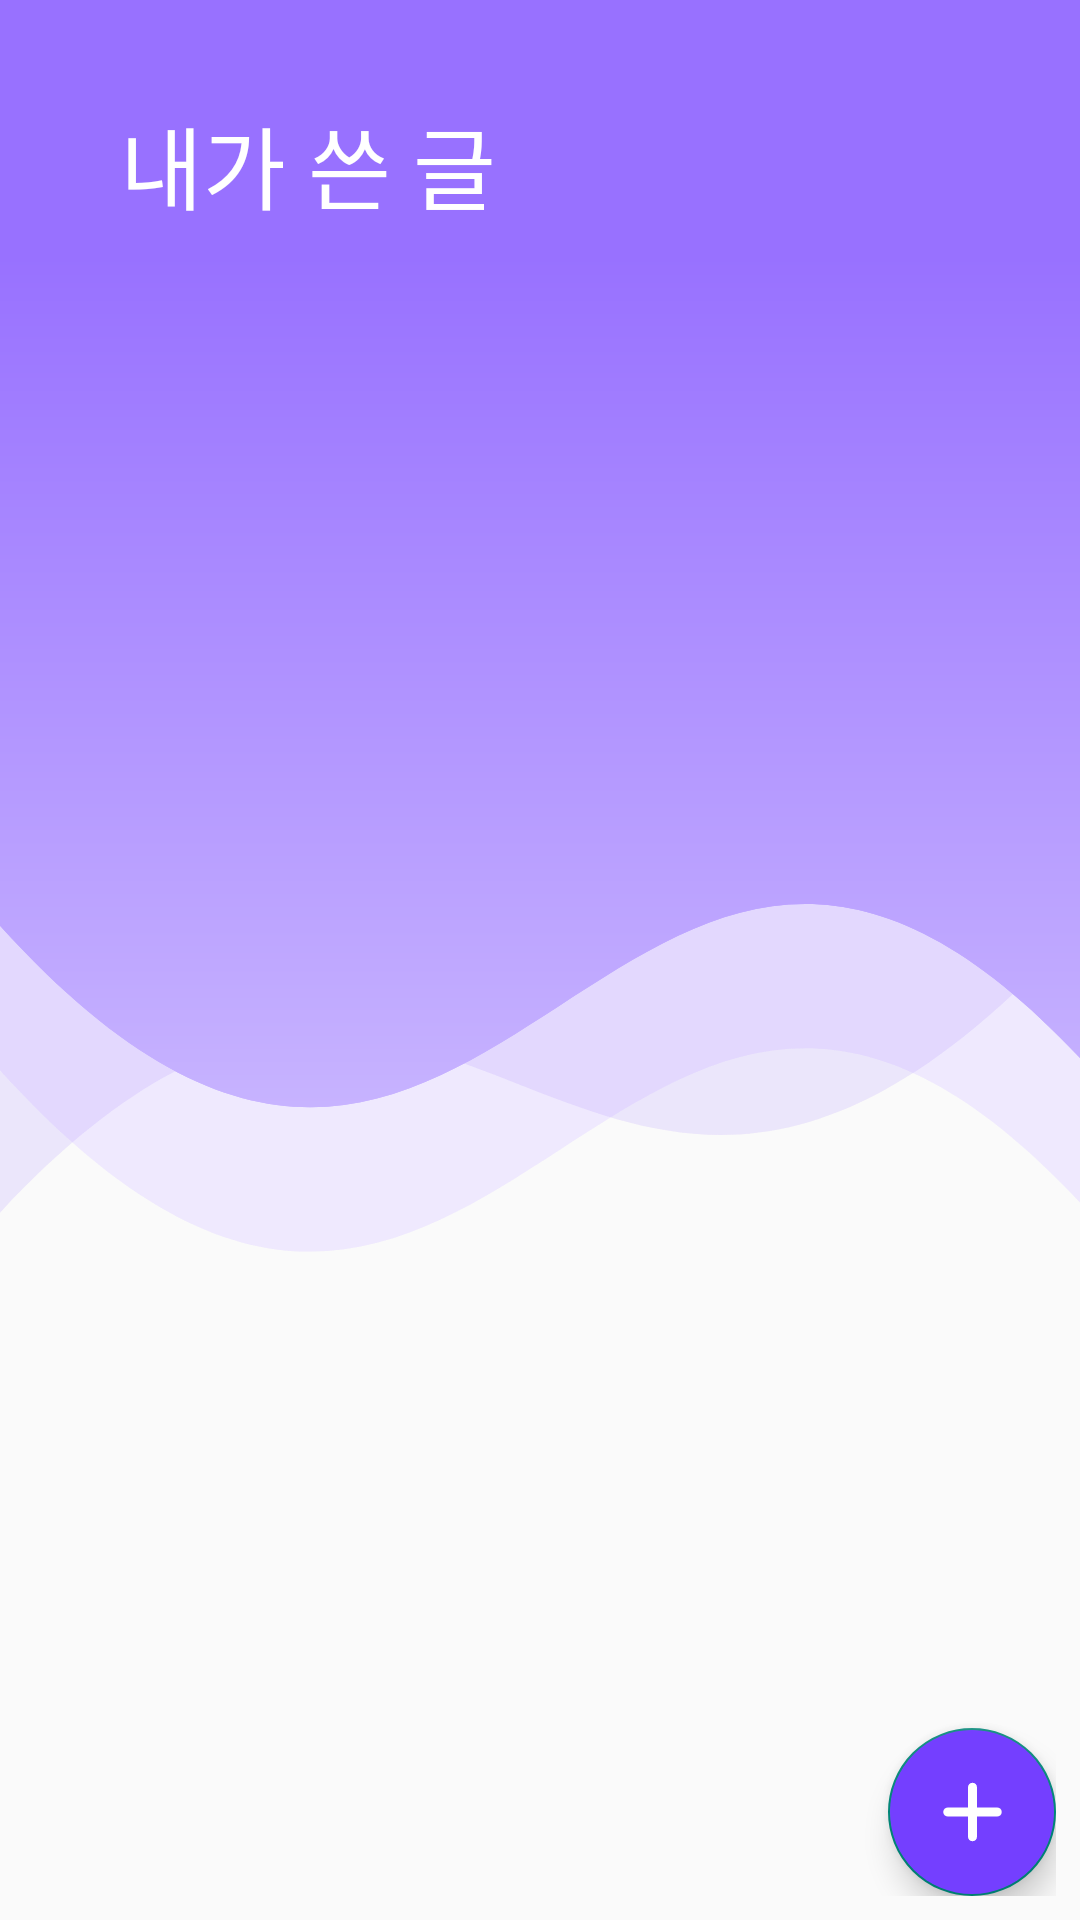

Icons on this 1080 × 1920 Android screen, each with the point to tap as point (x, y):
plus: point (972, 1812)
